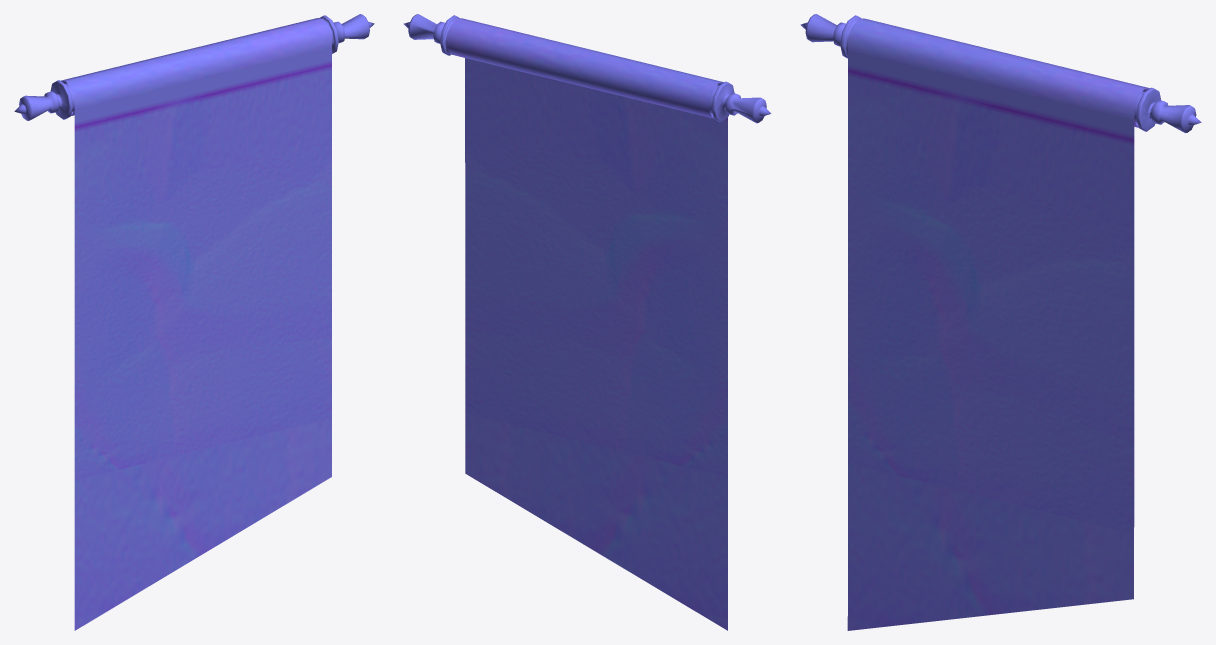
The model's file is WallScroll 1.fbx.
The picture shows the model from 3 angles, left to right: view 1: azimuth 30°, elevation 25°; view 2: azimuth 150°, elevation 25°; view 3: azimuth 330°, elevation 25°; orthographic projection. The views are drawn at different scales.
Parts seen in each view (by area): view 1: MappedScrolls.001; view 2: MappedScrolls.001; view 3: MappedScrolls.001.
Part boxes in pixels (<box>): MappedScrolls.001: <box>14,14,374,630</box>; MappedScrolls.001: <box>403,14,771,630</box>; MappedScrolls.001: <box>800,14,1201,630</box>.
Bounding box in the file's own units: 74.05 × 7.17 × 107.
